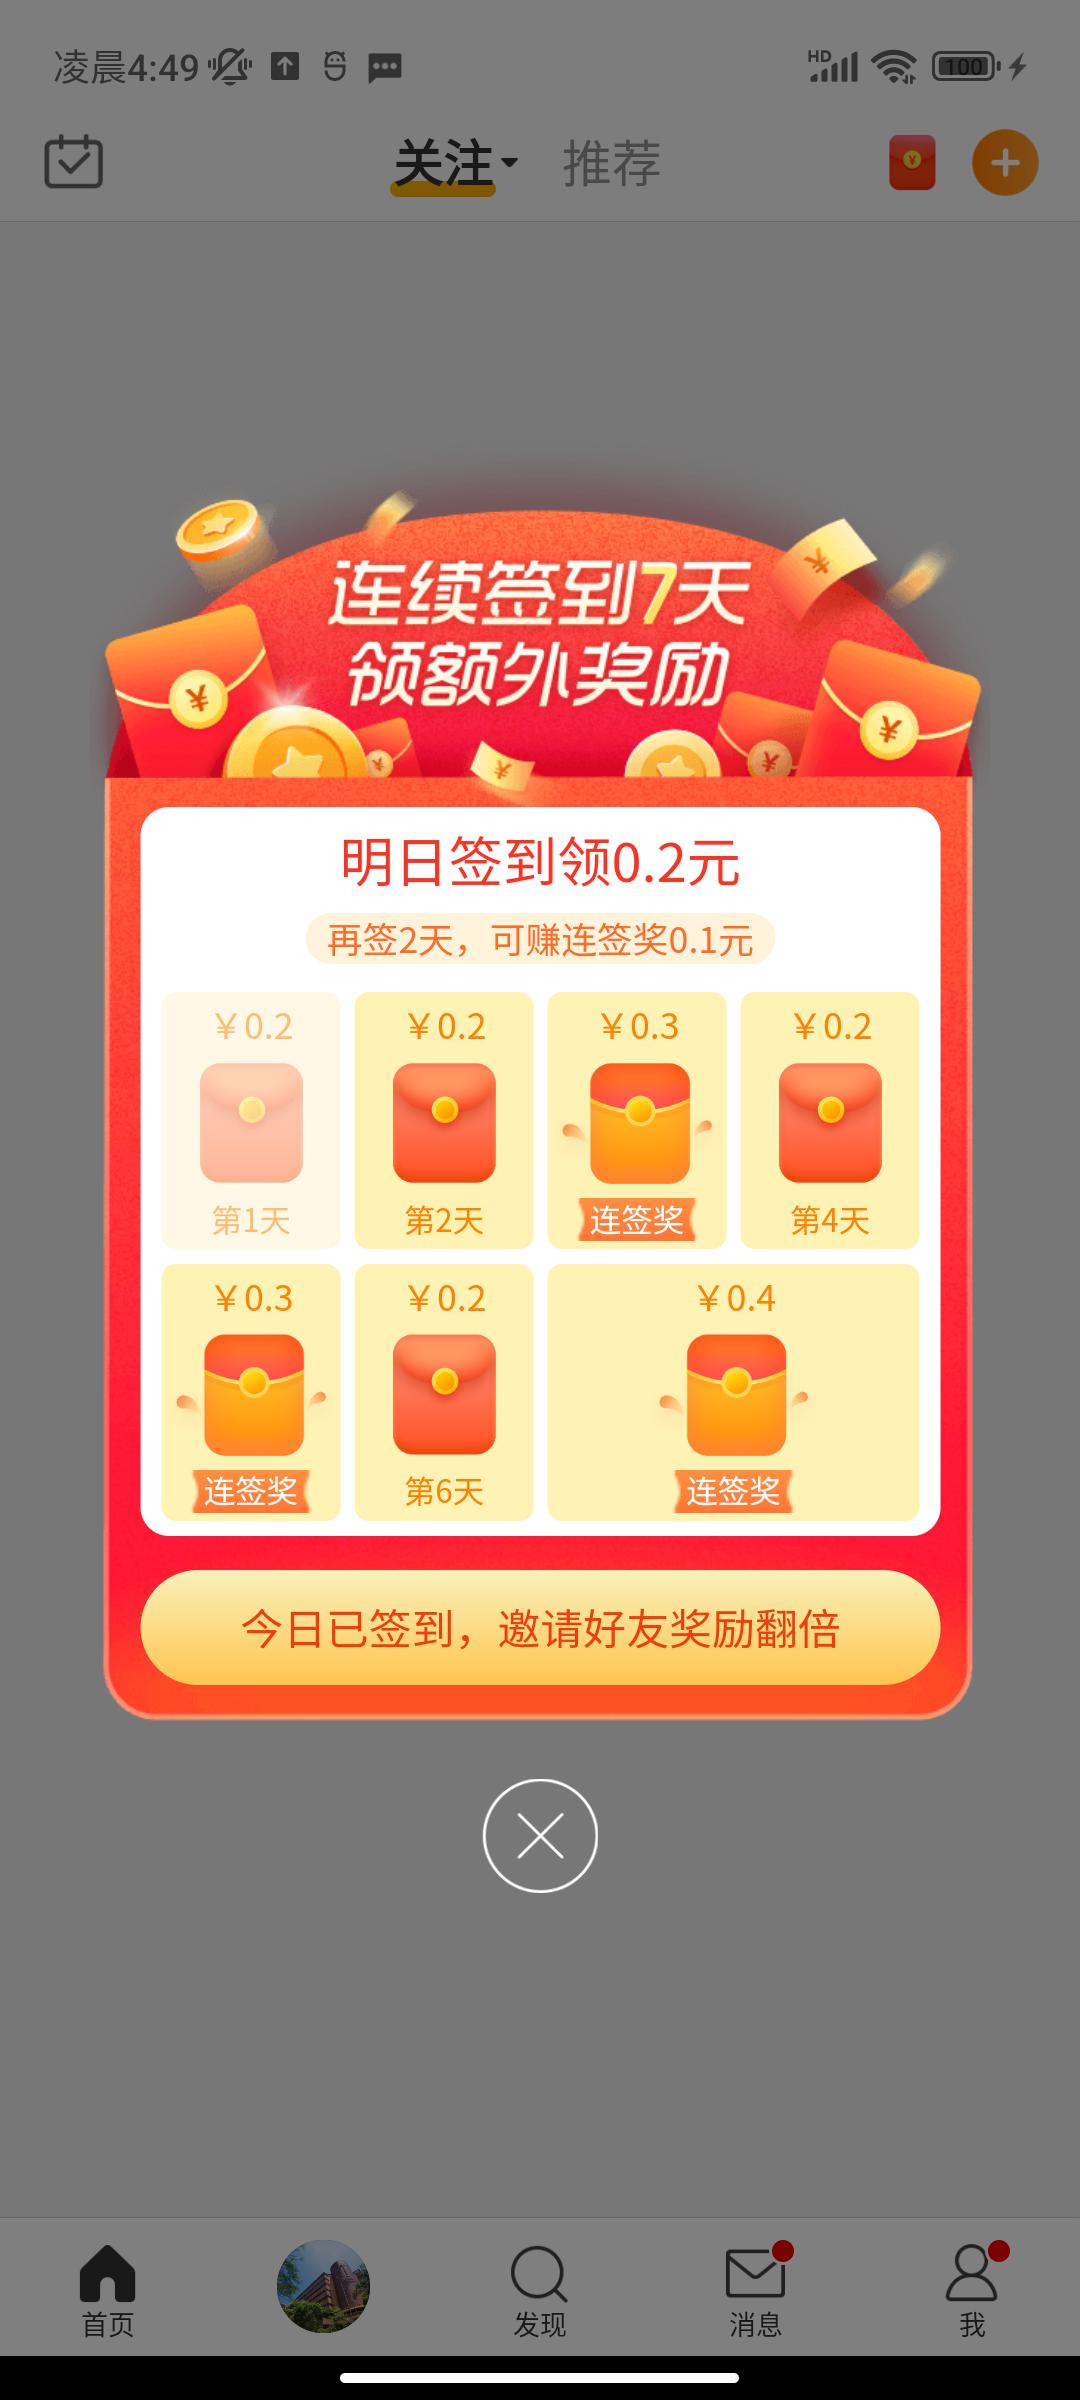ui_group: (112, 801, 956, 1697)
